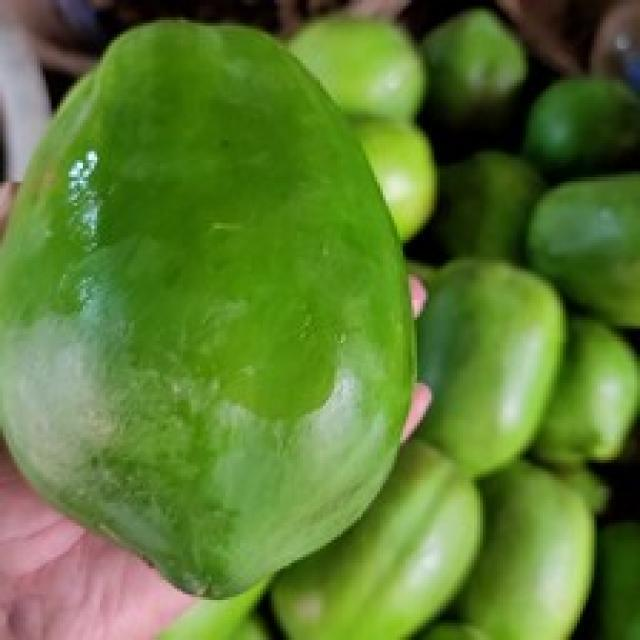Pepaya unrippen: (1, 11, 421, 600)
